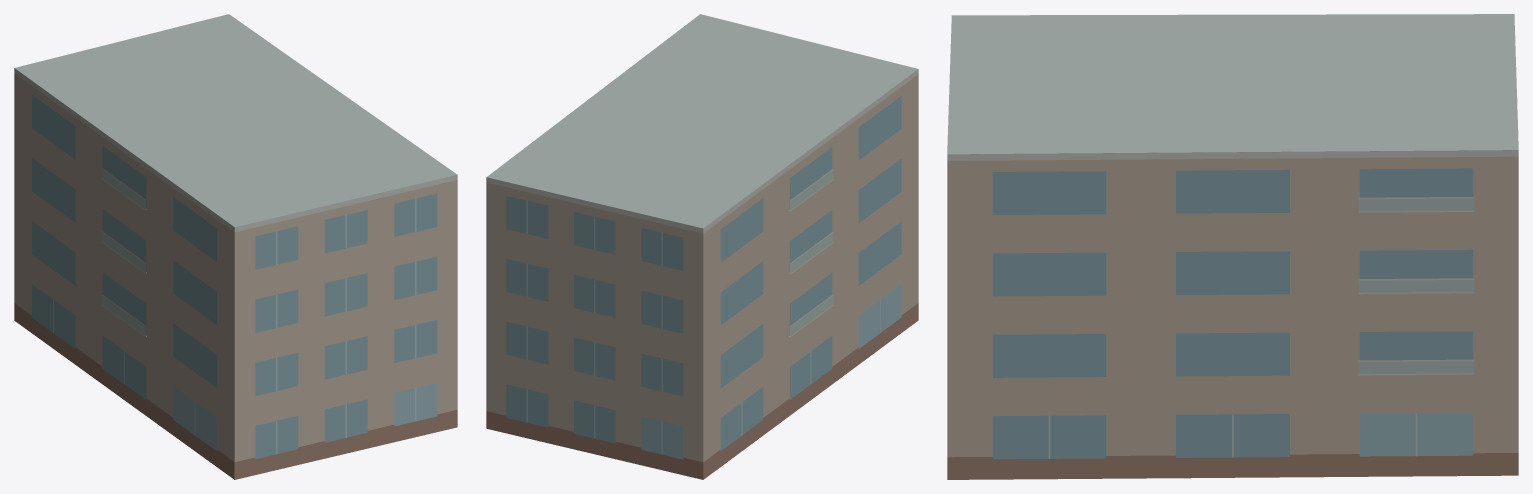
File: survey-upis-32760807.glb
3 views of the same model, side by side, from view 1: azimuth 30°, elevation 25°; view 2: azimuth 150°, elevation 25°; view 3: azimuth 270°, elevation 25° (orthographic). The views are drawn at different scales.
Parts seen in each view (by area): view 1: survey-upis-32760807.tmp; view 2: survey-upis-32760807.tmp; view 3: survey-upis-32760807.tmp.
Part boxes in pixels (<box>): survey-upis-32760807.tmp: <box>14,14,457,479</box>; survey-upis-32760807.tmp: <box>486,14,918,479</box>; survey-upis-32760807.tmp: <box>947,14,1518,479</box>.
Size of the model in its own units: 11.01 by 11.9 by 18.95.
